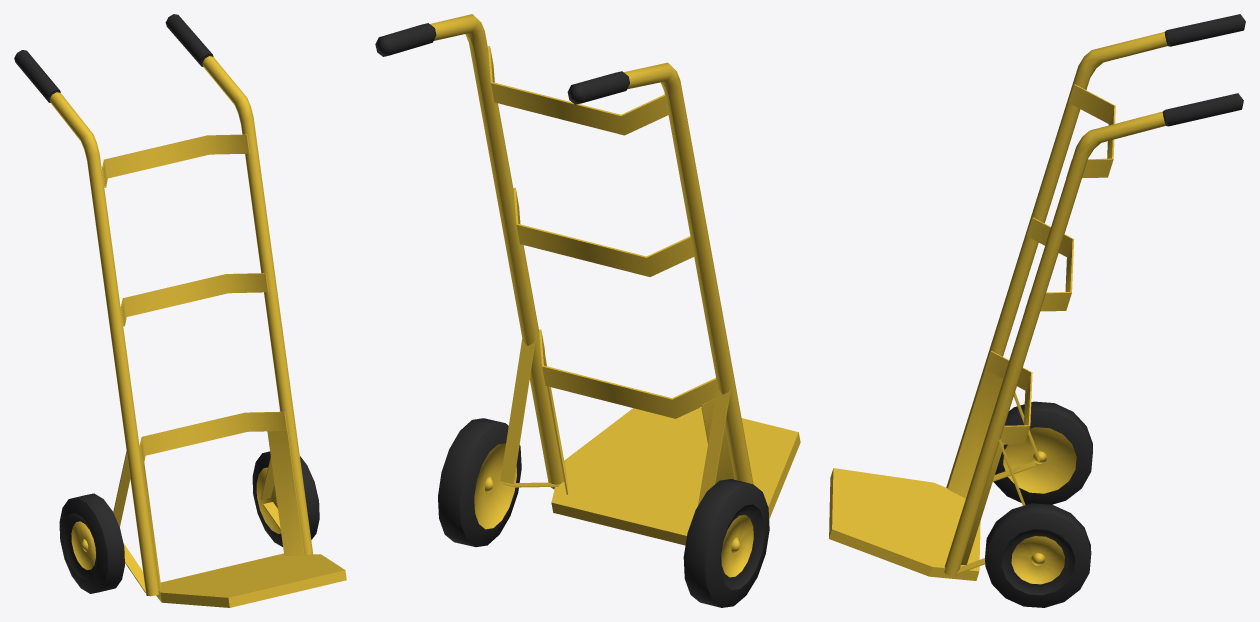
Rendered from cart 1.fbx.
The picture shows the model from 3 angles, left to right: view 1: azimuth 30°, elevation 25°; view 2: azimuth 150°, elevation 25°; view 3: azimuth 270°, elevation 25°; orthographic projection. The views are drawn at different scales.
Parts seen in each view (by area): view 1: SM_Trolley_01; view 2: SM_Trolley_01; view 3: SM_Trolley_01.
Part boxes in pixels (left/top/right/bottom): SM_Trolley_01: left=14, top=14, right=346, bottom=607; SM_Trolley_01: left=375, top=14, right=800, bottom=607; SM_Trolley_01: left=829, top=14, right=1245, bottom=607.
Size of the model in its own units: 0.2896 by 0.5904 by 0.4459.
